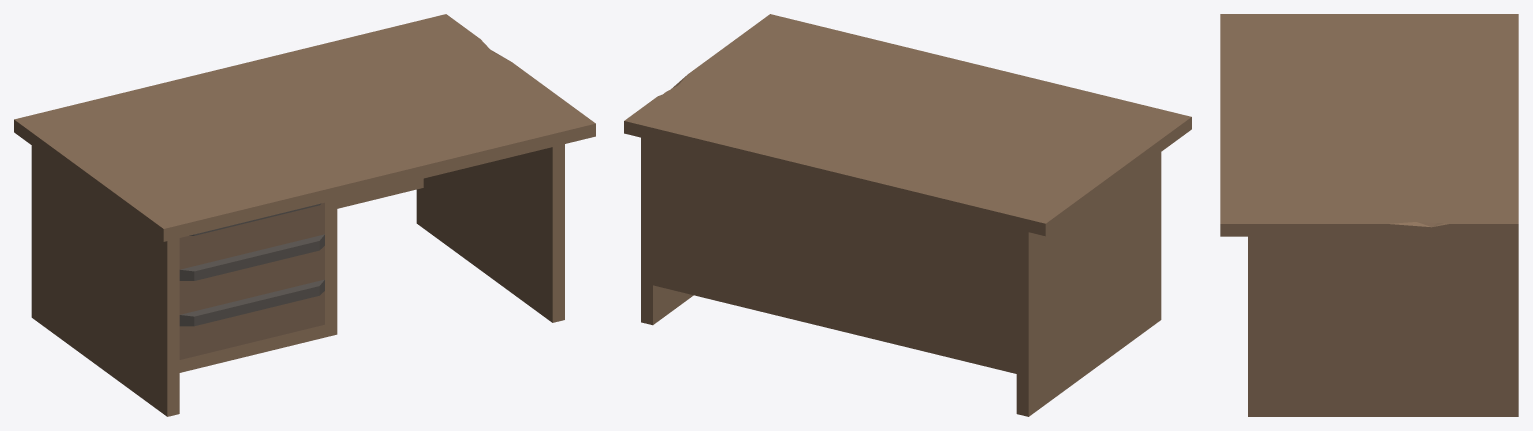
The model's file is Wh_Office_Table.fbx.
3 renders of one model, left to right at view 1: azimuth 30°, elevation 25°; view 2: azimuth 150°, elevation 25°; view 3: azimuth 270°, elevation 25°, orthographic. The views are drawn at different scales.
Parts seen in each view (by area): view 1: Cube.807, Cube.809, Cube.810, Cube.811; view 2: Cube.807; view 3: Cube.807.
Boxes of the visible parts, x1,y1,x2,y2 form: Cube.807: [14, 14, 595, 416]; Cube.809: [179, 279, 324, 359]; Cube.810: [179, 234, 324, 314]; Cube.811: [179, 202, 324, 269]; Cube.807: [624, 14, 1191, 416]; Cube.807: [1220, 14, 1518, 416].
Size of the model in its own units: 200 by 89.46 by 120.
